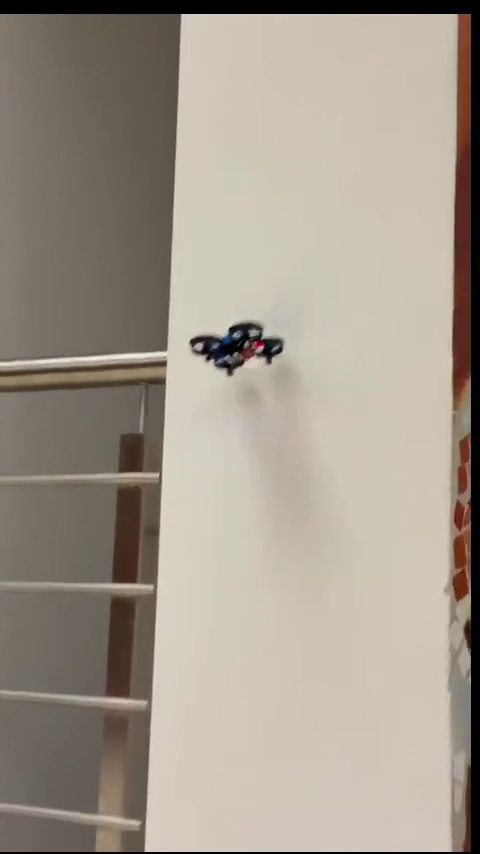drone: (191, 318, 280, 370)
